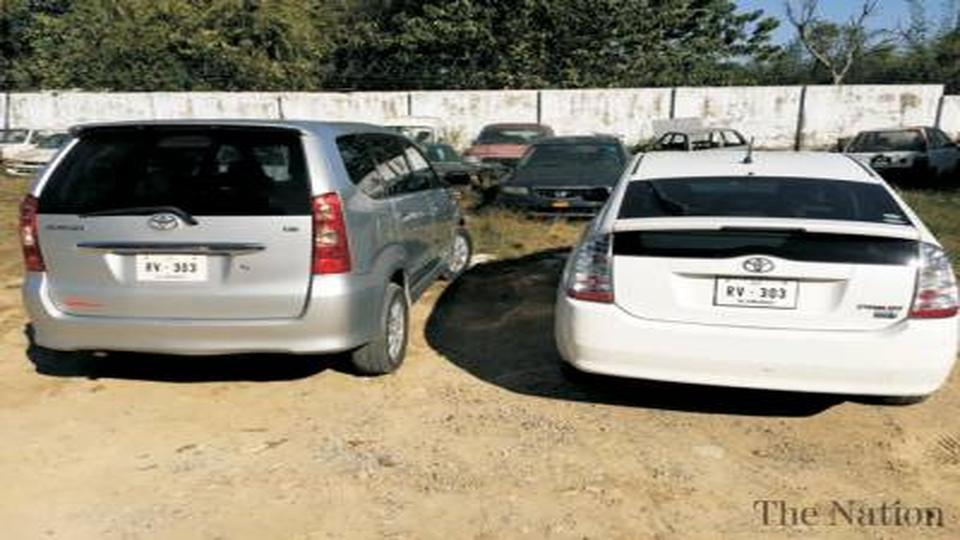NumberPlate: (718, 271, 801, 315), (130, 251, 218, 291)
